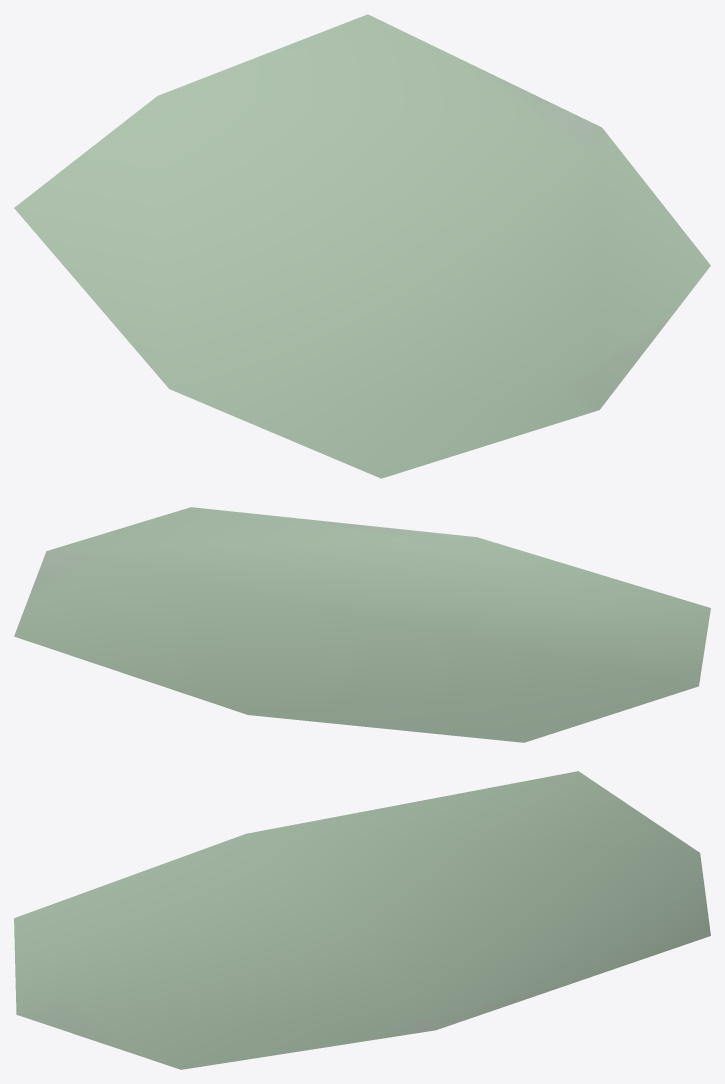
The model's file is TROLLHOLE02_HOLECAP57.fbx.
The picture shows the model from 3 angles, top to bottom: view 1: azimuth 30°, elevation 25°; view 2: azimuth 150°, elevation 25°; view 3: azimuth 270°, elevation 25°; orthographic projection. The views are drawn at different scales.
Visible parts, largest first — view 1: TROLLHOLE02_HOLECAP57; view 2: TROLLHOLE02_HOLECAP57; view 3: TROLLHOLE02_HOLECAP57.
Part boxes in pixels (<box>): TROLLHOLE02_HOLECAP57: <box>14,14,710,478</box>; TROLLHOLE02_HOLECAP57: <box>14,507,710,742</box>; TROLLHOLE02_HOLECAP57: <box>14,771,710,1069</box>.
Size of the model in its own units: 17096 by 4368 by 18952.
1 material, 1 textured.
